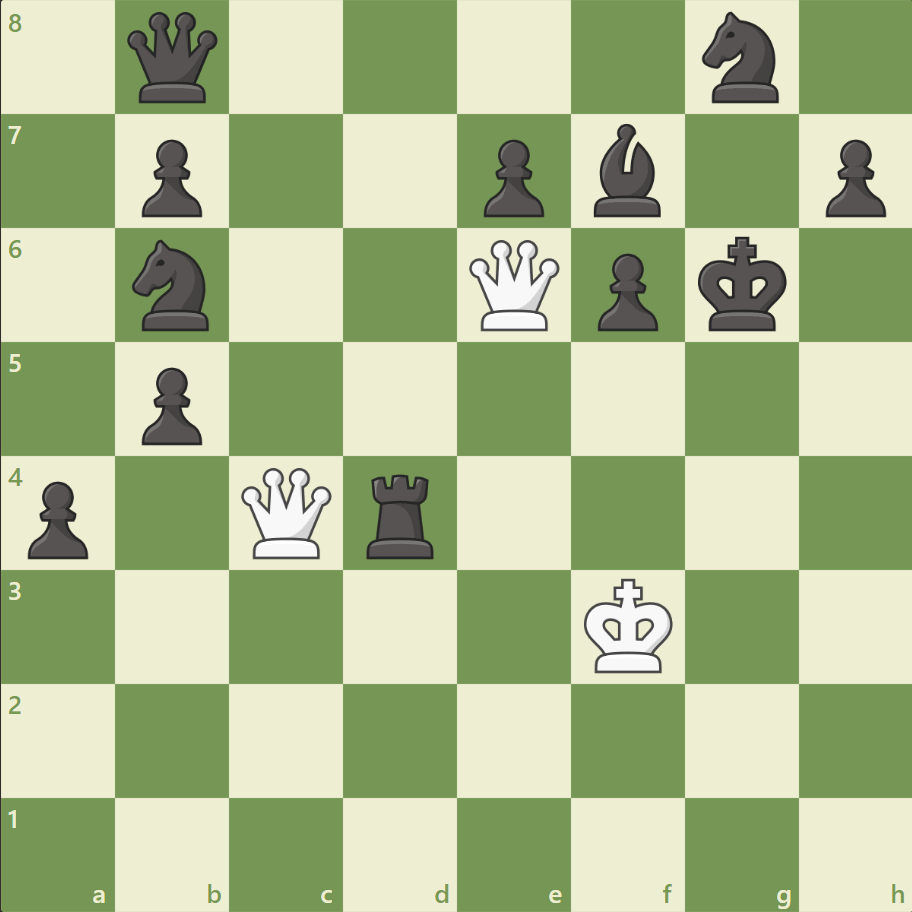K: (579, 571, 679, 679)
Q: (464, 236, 563, 335), (237, 463, 336, 562)
b: (585, 120, 669, 222)
k: (692, 231, 792, 339)
n: (124, 234, 222, 337), (692, 7, 789, 110)
p: (133, 132, 208, 223), (474, 132, 549, 223), (133, 359, 208, 450), (20, 473, 95, 564), (815, 132, 889, 223), (588, 246, 662, 337)
q: (124, 9, 223, 108)
r: (360, 466, 442, 563)
